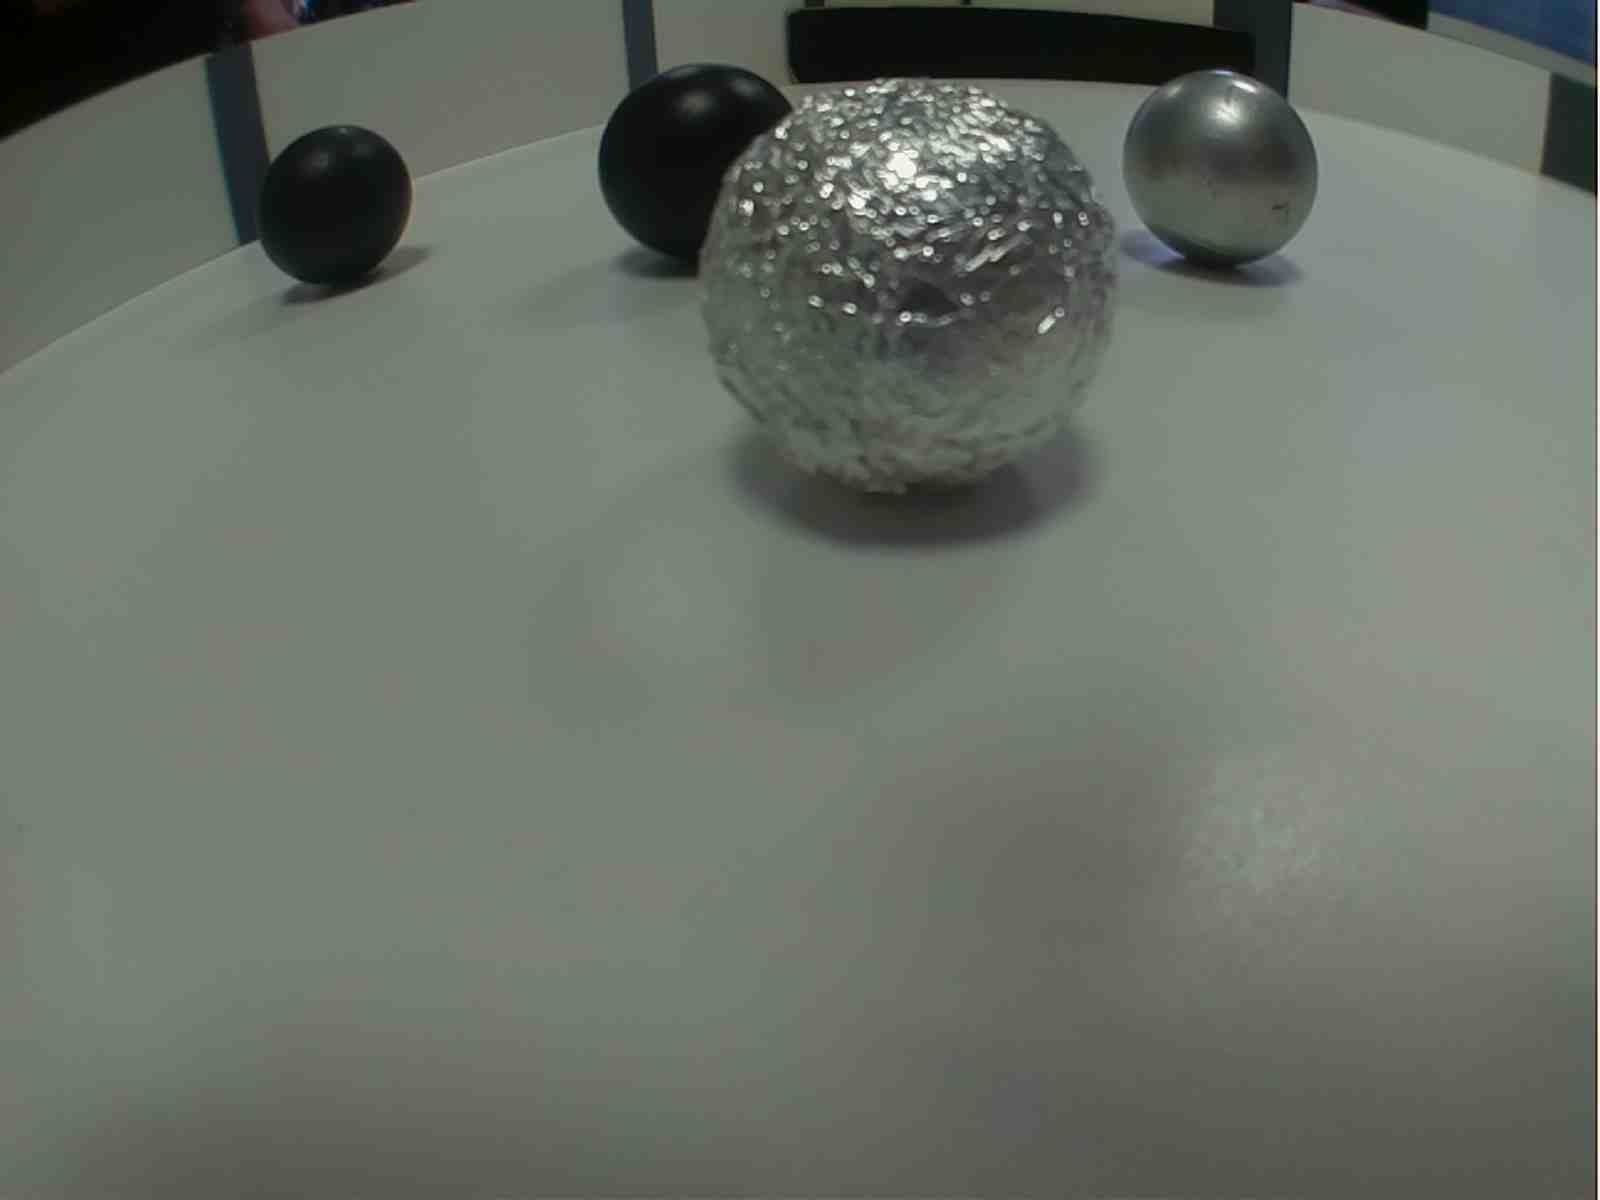bianca: (684, 66, 1121, 503), (1121, 62, 1328, 268)
nera: (595, 61, 813, 279), (243, 120, 423, 300)
